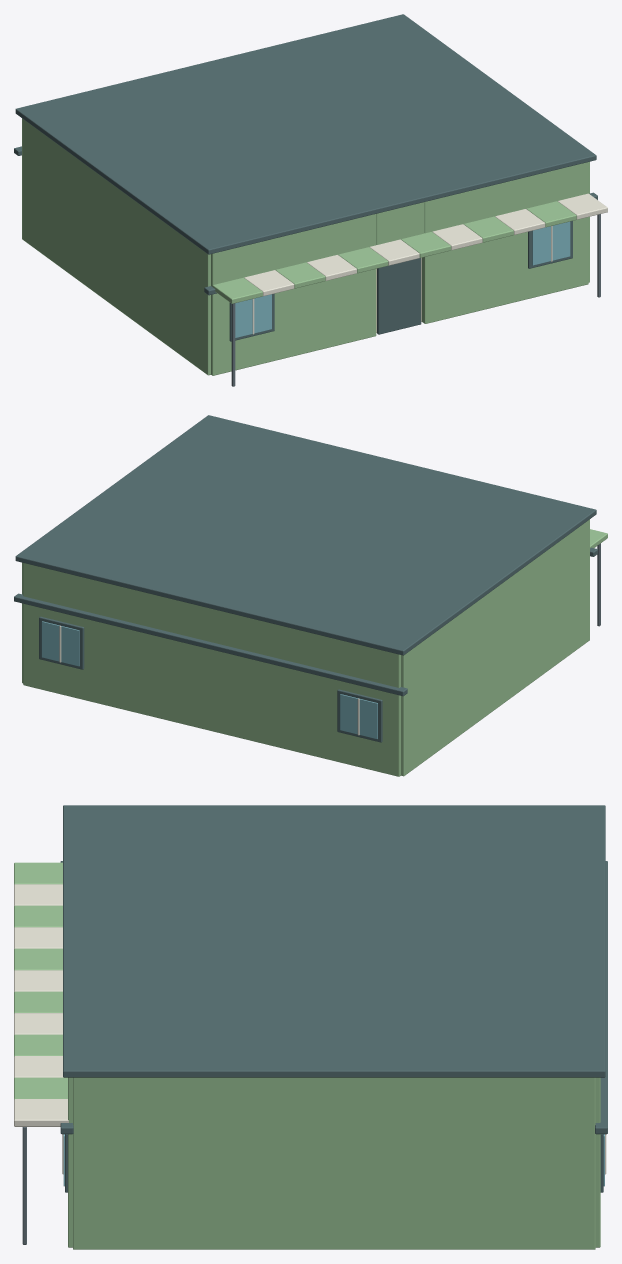
The model's file is district-market.glb.
The picture shows the model from 3 angles, top to bottom: view 1: azimuth 30°, elevation 25°; view 2: azimuth 150°, elevation 25°; view 3: azimuth 270°, elevation 25°; orthographic projection. The views are drawn at different scales.
Visible parts, largest first — view 1: roof-trim, shell-wall, shell-white, door leaf, shell-glass, shell-trim, shell-steel; view 2: roof-trim, shell-wall, shell-trim, shell-glass; view 3: roof-trim, shell-wall, shell-white, shell-trim, shell-steel.
Part boxes in pixels (bbox=[...]): roof-trim: bbox=[15, 14, 596, 254]; shell-wall: bbox=[22, 118, 589, 375]; shell-white: bbox=[244, 193, 607, 334]; door leaf: bbox=[377, 258, 421, 334]; shell-glass: bbox=[235, 221, 570, 337]; shell-trim: bbox=[14, 146, 597, 341]; shell-steel: bbox=[231, 214, 600, 386]; roof-trim: bbox=[15, 415, 596, 655]; shell-wall: bbox=[22, 519, 607, 776]; shell-trim: bbox=[14, 547, 597, 742]; shell-glass: bbox=[41, 621, 377, 739]; roof-trim: bbox=[63, 805, 605, 1077]; shell-wall: bbox=[14, 862, 600, 1249]; shell-white: bbox=[14, 884, 606, 1174]; shell-trim: bbox=[60, 861, 607, 1192]; shell-steel: bbox=[22, 1127, 26, 1244].
Bounding box in the file's own units: 14.5 × 4.6 × 13.63.
